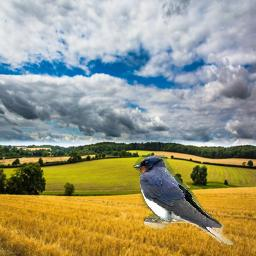Swallow: (133, 156, 233, 249)
